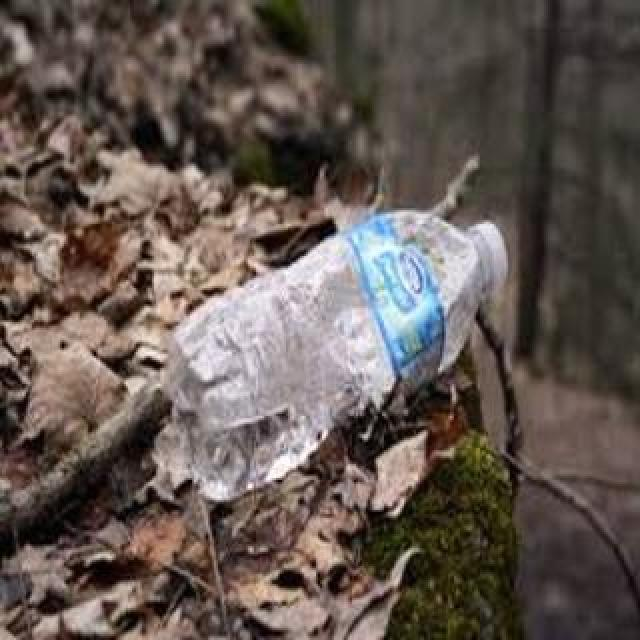Pet_Bottle: (170, 204, 510, 500)
